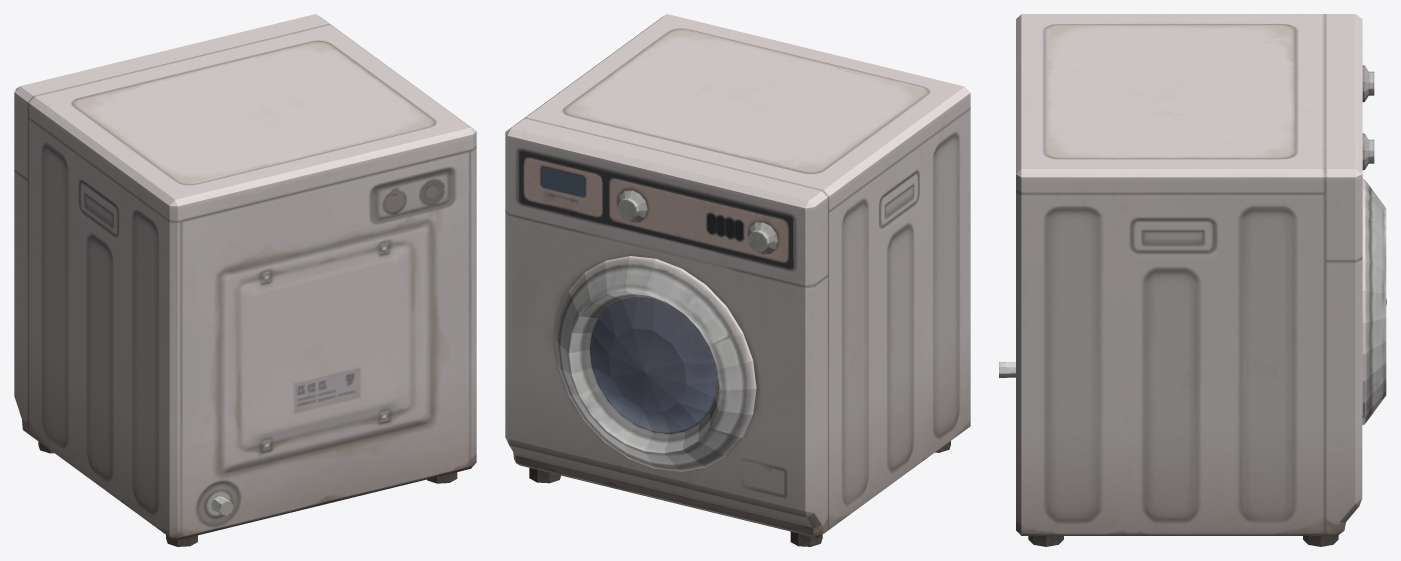
The model's file is P_WashingMachine_002_S1_M01.obj.
3 views of the same model, side by side, from view 1: azimuth 30°, elevation 25°; view 2: azimuth 150°, elevation 25°; view 3: azimuth 270°, elevation 25° (orthographic). The views are drawn at different scales.
Size of the model in its own units: 1 by 1.1 by 1.02.
Materials: 2 (2 with a texture image).
